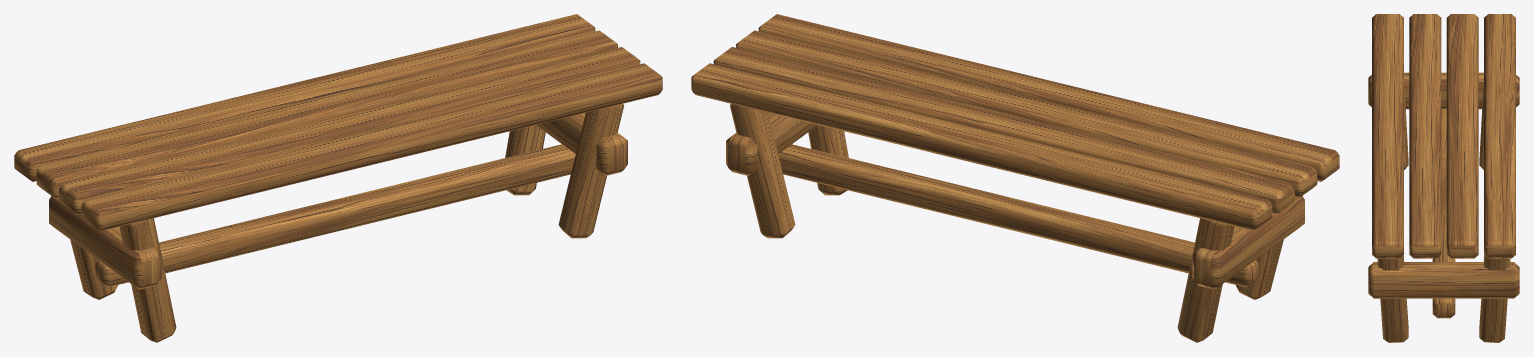
File: 03_Banco_Simple.obj
3 renders of one model, left to right at view 1: azimuth 30°, elevation 25°; view 2: azimuth 150°, elevation 25°; view 3: azimuth 270°, elevation 25°, orthographic. The views are drawn at different scales.
Parts seen in each view (by area): view 1: 03_Banco_Simple_Wood; view 2: 03_Banco_Simple_Wood; view 3: 03_Banco_Simple_Wood.
Part boxes in pixels (x1,y1,x2,y2): 03_Banco_Simple_Wood: (14,14,662,342); 03_Banco_Simple_Wood: (691,14,1339,342); 03_Banco_Simple_Wood: (1368,14,1519,342).
Bounding box in the file's own units: 1.8 × 0.4681 × 0.5.
Materials: 1 (1 with a texture image).
